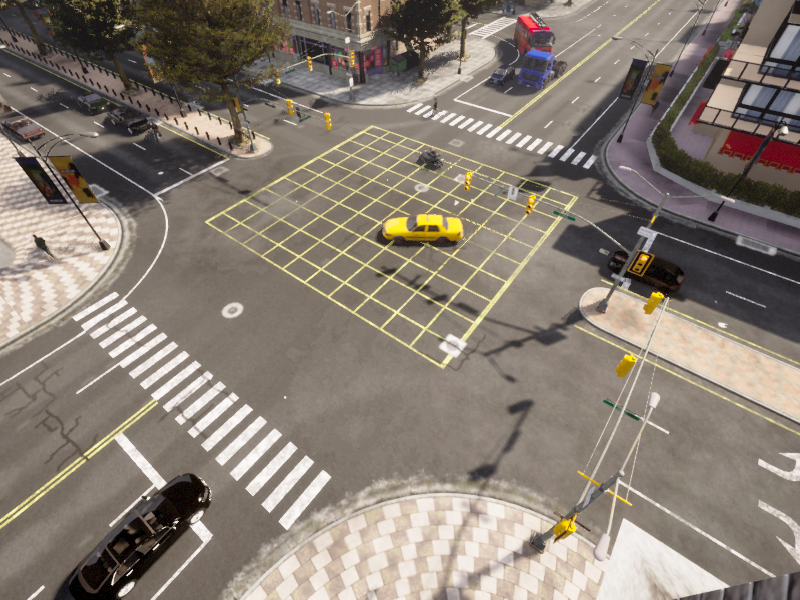vehicle: (598, 236, 688, 298), (378, 209, 461, 244), (100, 99, 157, 138), (415, 140, 443, 169), (144, 118, 171, 145)
